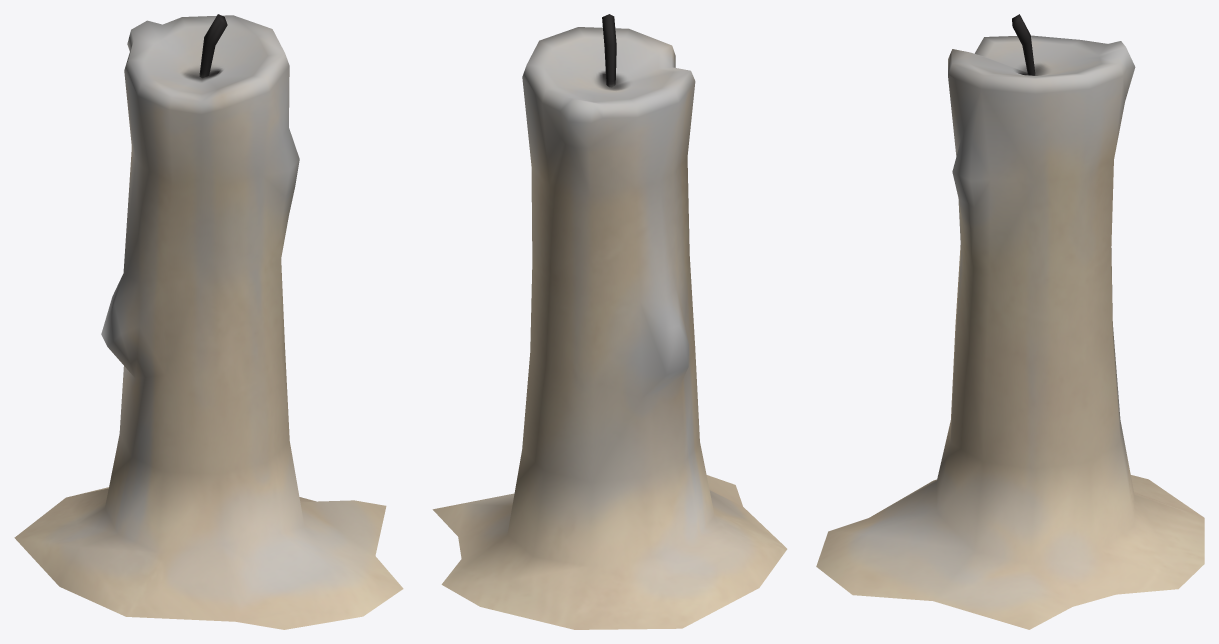
File: candle_2.FBX
The picture shows the model from 3 angles, left to right: view 1: azimuth 30°, elevation 25°; view 2: azimuth 150°, elevation 25°; view 3: azimuth 270°, elevation 25°; orthographic projection.
Visible parts, largest first — view 1: candle_2; view 2: candle_2; view 3: candle_2.
Part boxes in pixels (box(x1,y1,x2,y2)): candle_2: box(14, 14, 403, 629); candle_2: box(432, 14, 787, 629); candle_2: box(816, 14, 1204, 629).
Bounding box in the file's own units: 6.05 × 9.47 × 6.26.
